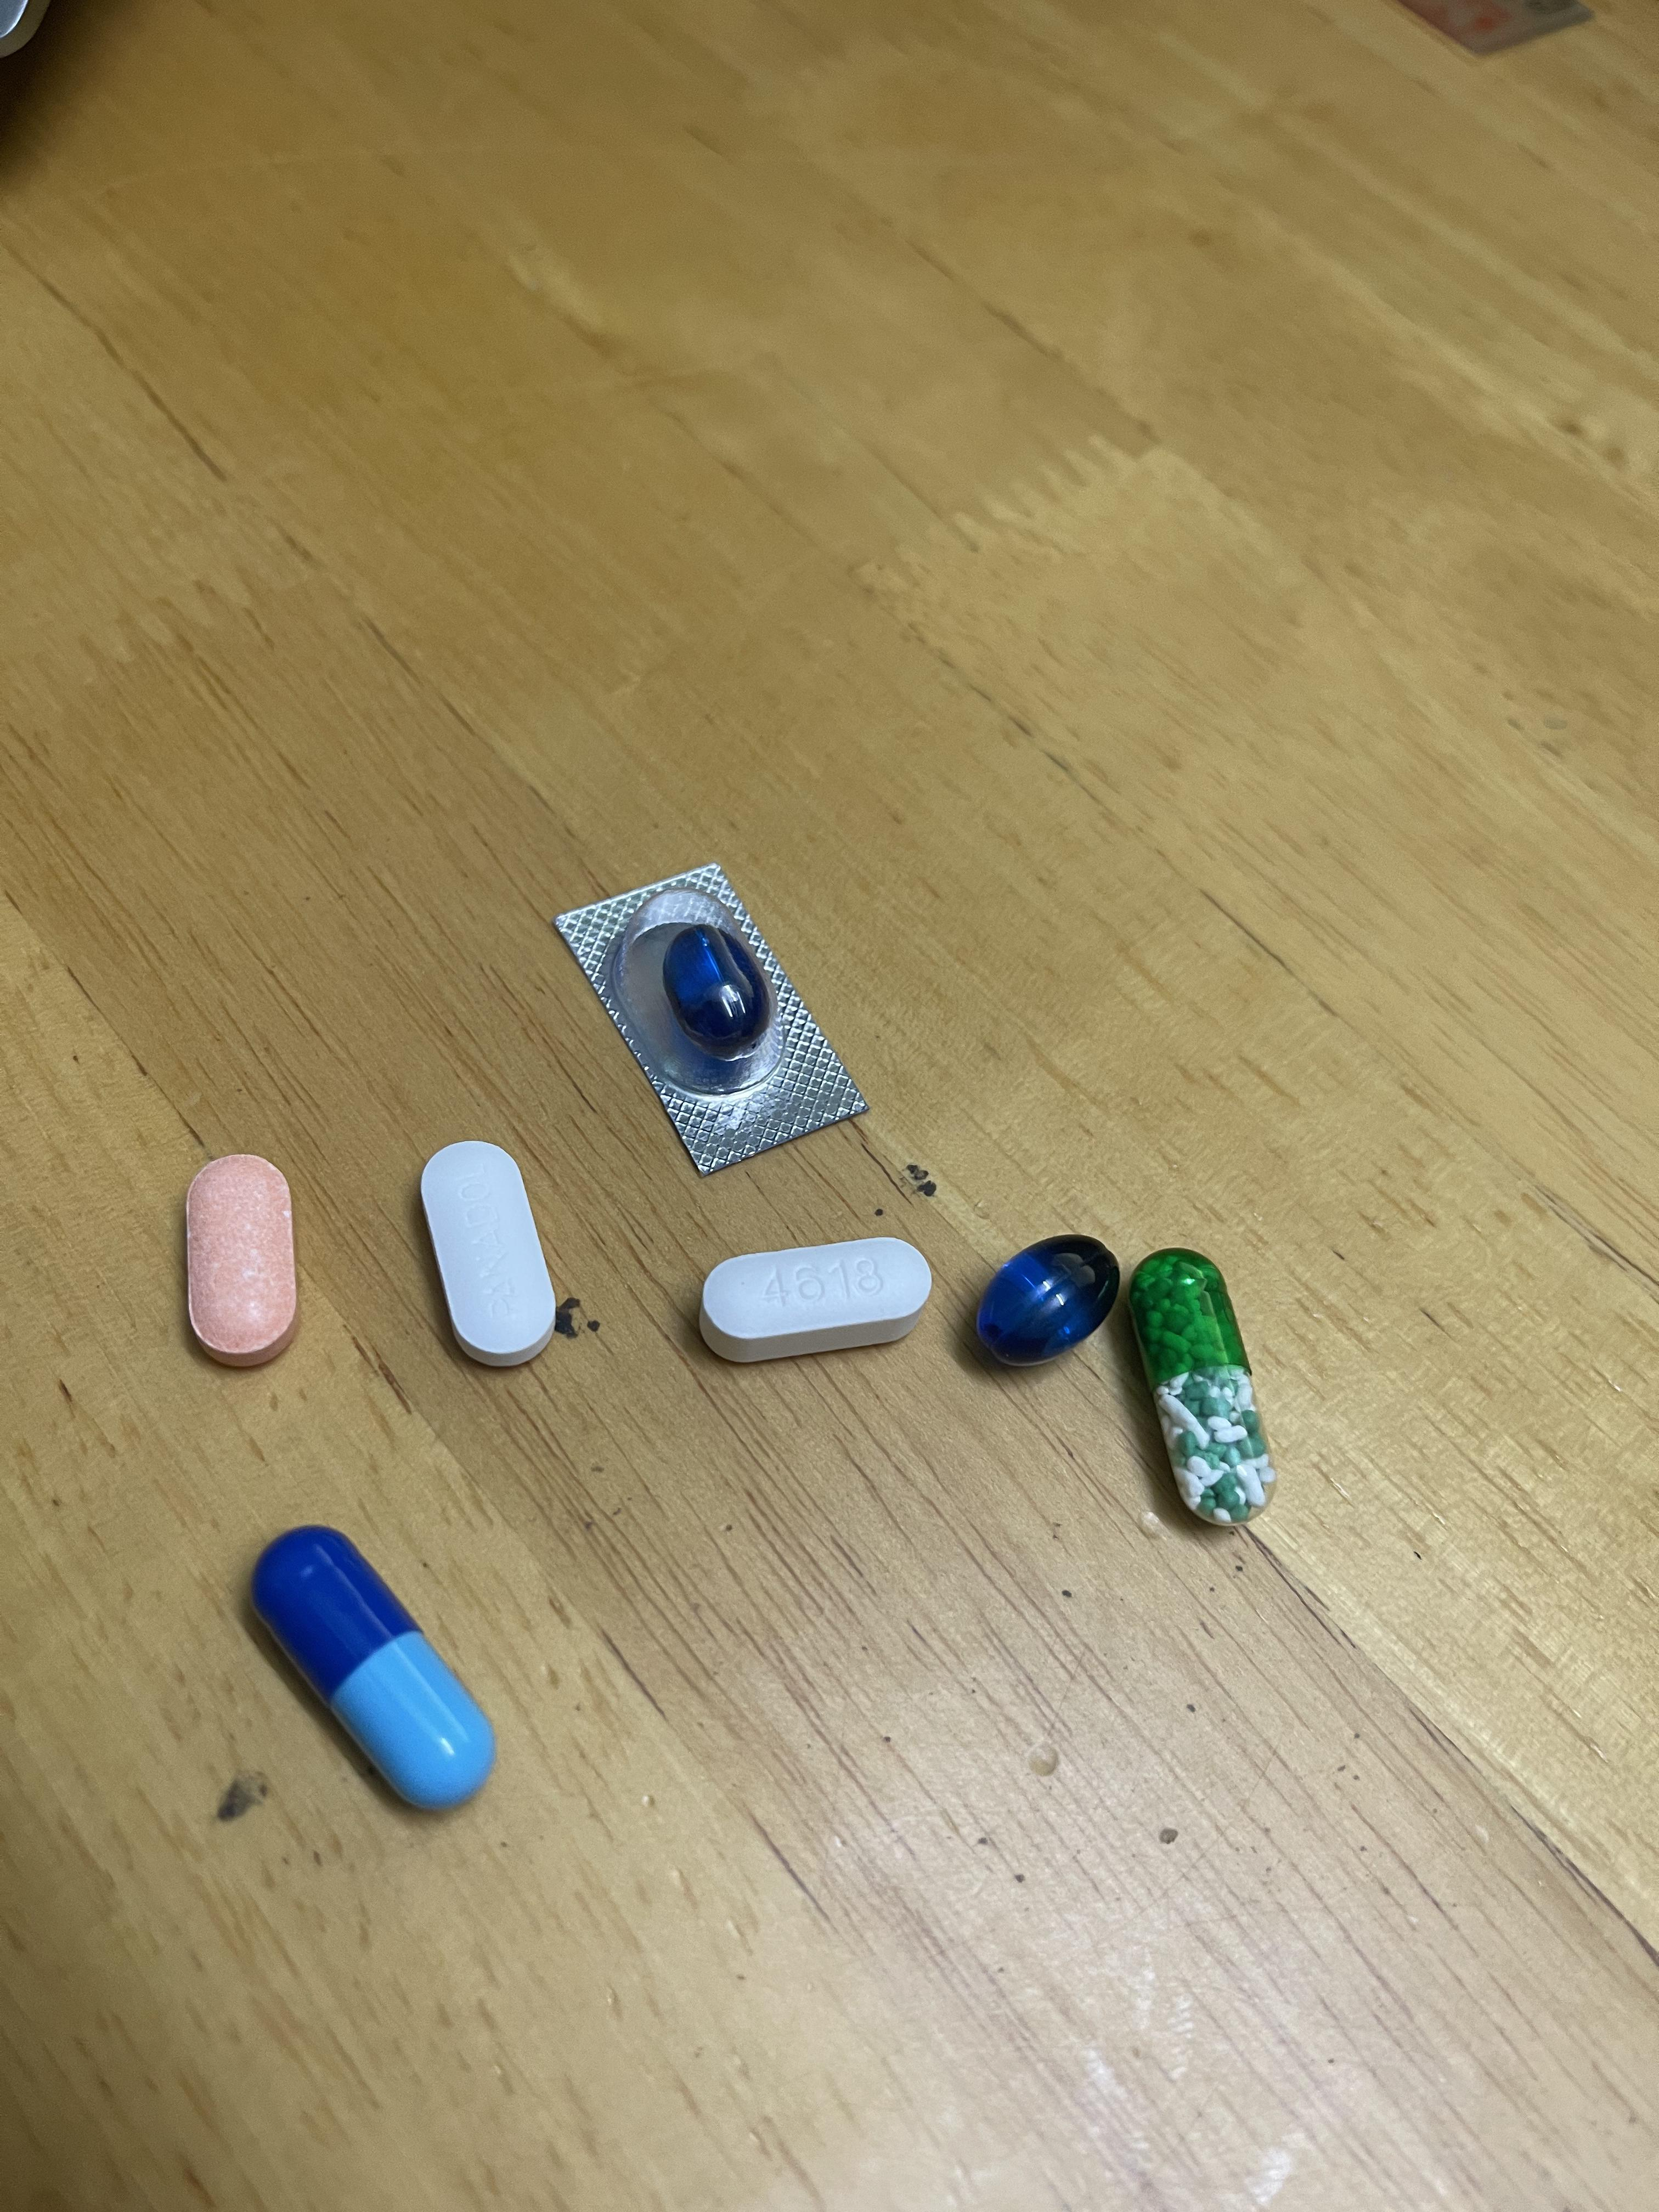Lincomyxin_500mg: (976, 1235, 1119, 1360), (664, 927, 765, 1050)
Loratadine_10mg: (186, 1157, 298, 1360)
Paracetamol_350mg: (423, 1141, 558, 1355)
Paracetamol_500mg: (706, 1235, 924, 1345)
Paracetamol_650mg: (1129, 1254, 1274, 1519)
pill: (254, 1534, 493, 1804)
